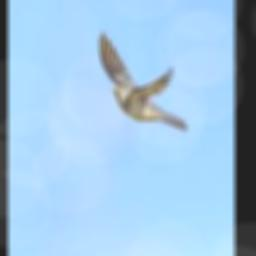Cuckoo: (99, 31, 189, 130)
